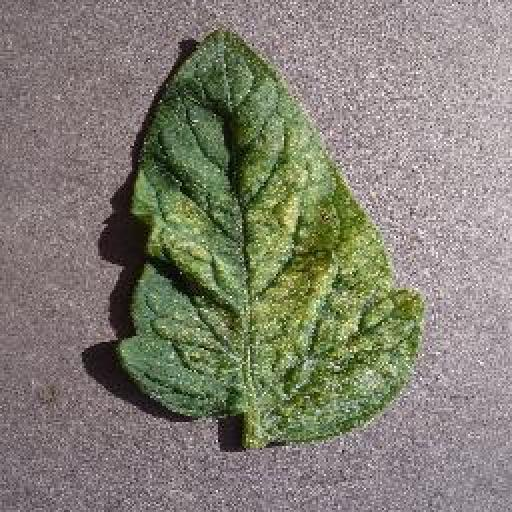disease_tomato: (118, 25, 422, 444)
